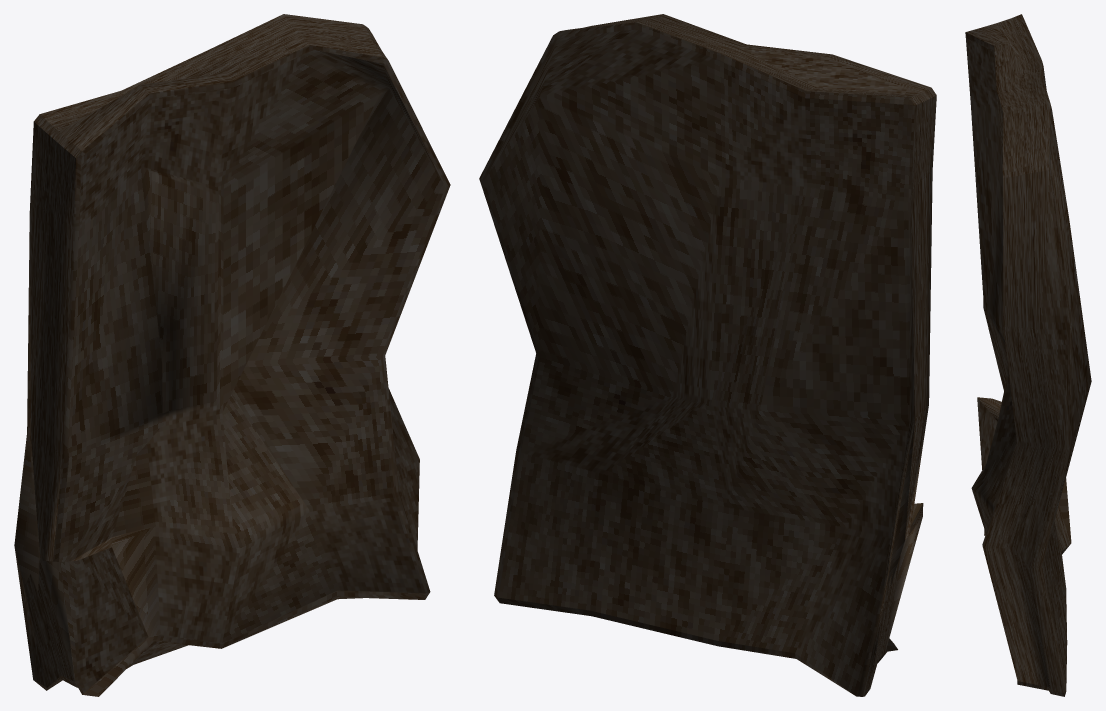
The model's file is wall_plate3.glb.
The picture shows the model from 3 angles, left to right: view 1: azimuth 30°, elevation 25°; view 2: azimuth 150°, elevation 25°; view 3: azimuth 270°, elevation 25°; orthographic projection. The views are drawn at different scales.
Parts seen in each view (by area): view 1: Cube; view 2: Cube; view 3: Cube.
Boxes of the visible parts, x1,y1,x2,y2 form: Cube: (14, 14, 450, 696); Cube: (479, 14, 936, 696); Cube: (965, 14, 1091, 696).
Size of the model in its own units: 0.7592 by 1.08 by 0.2274.
1 material, 1 textured.
